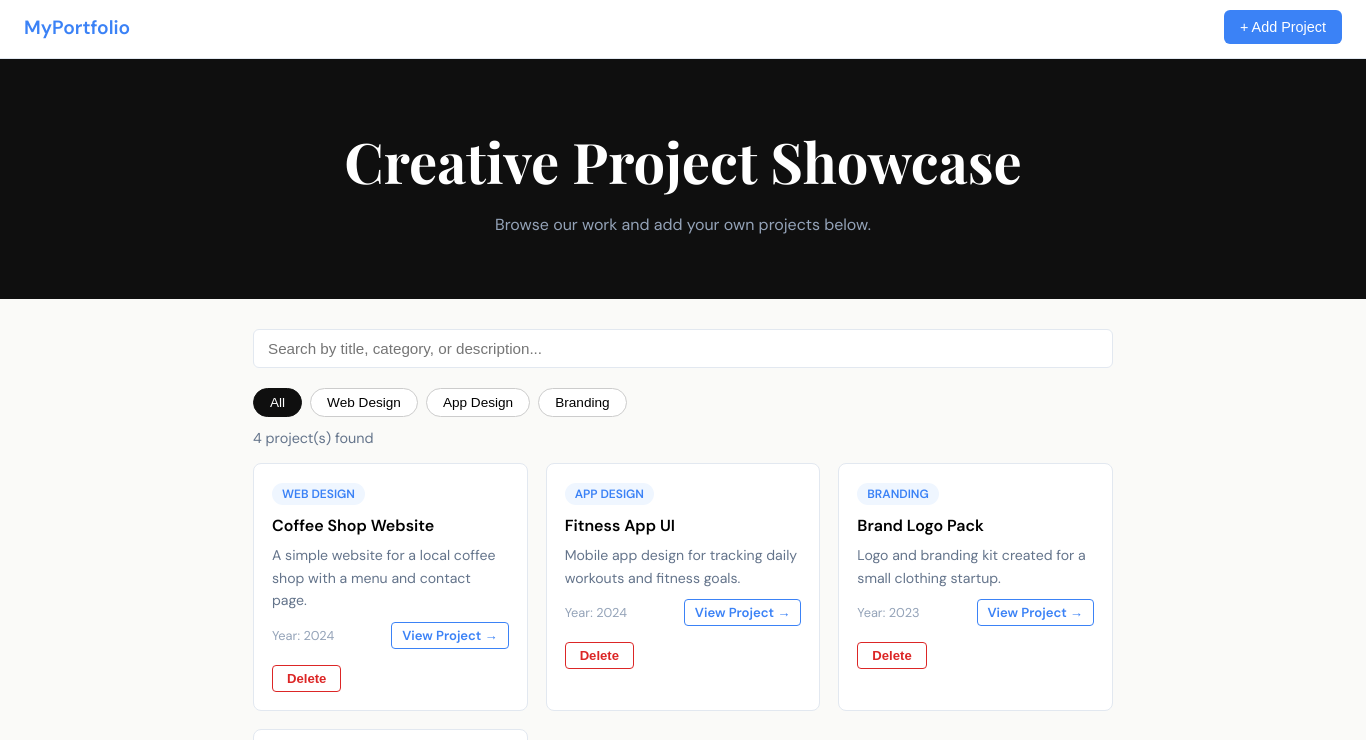
Scenario: form shows error when submitted empty
Click the button "+ Add Project" at [1283, 27], box [1224,10,1342,44]
(page scrolled)
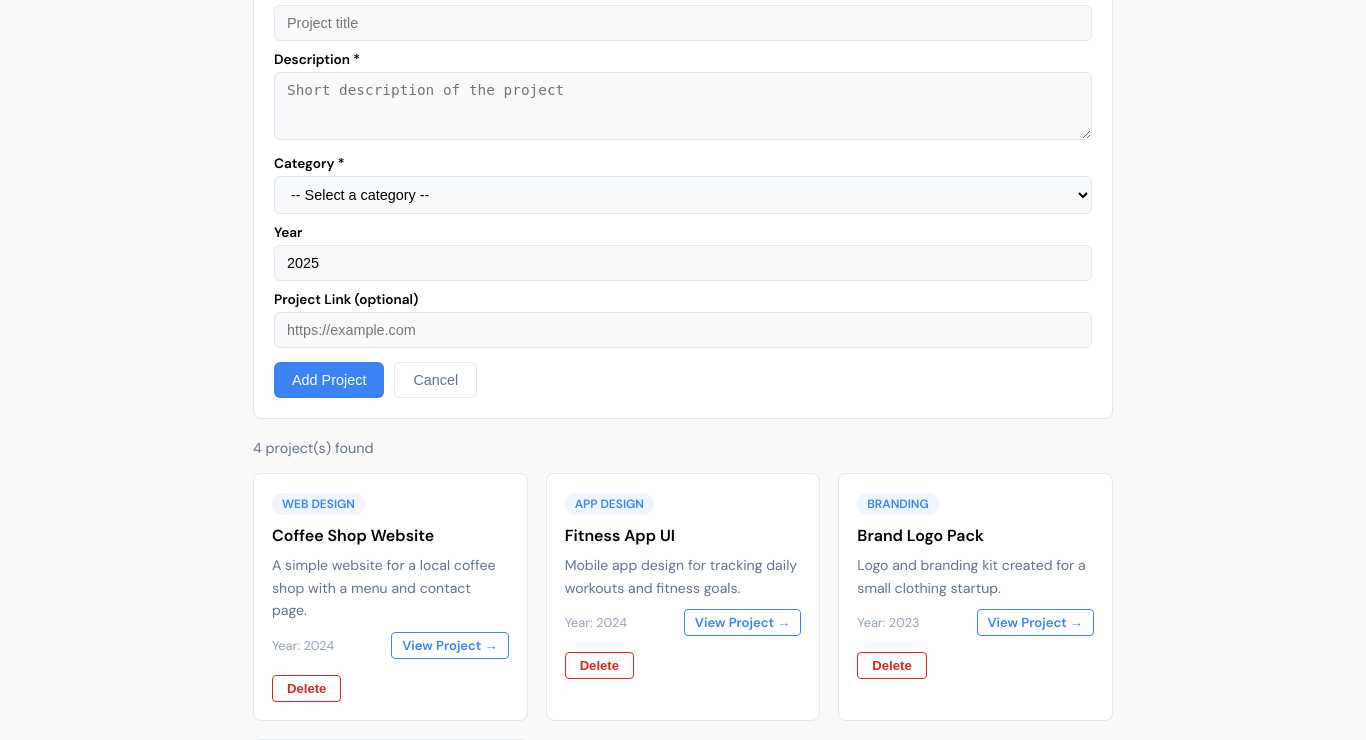
Click the button "Add Project" at [329, 380], box [274,362,384,398]
(page scrolled)
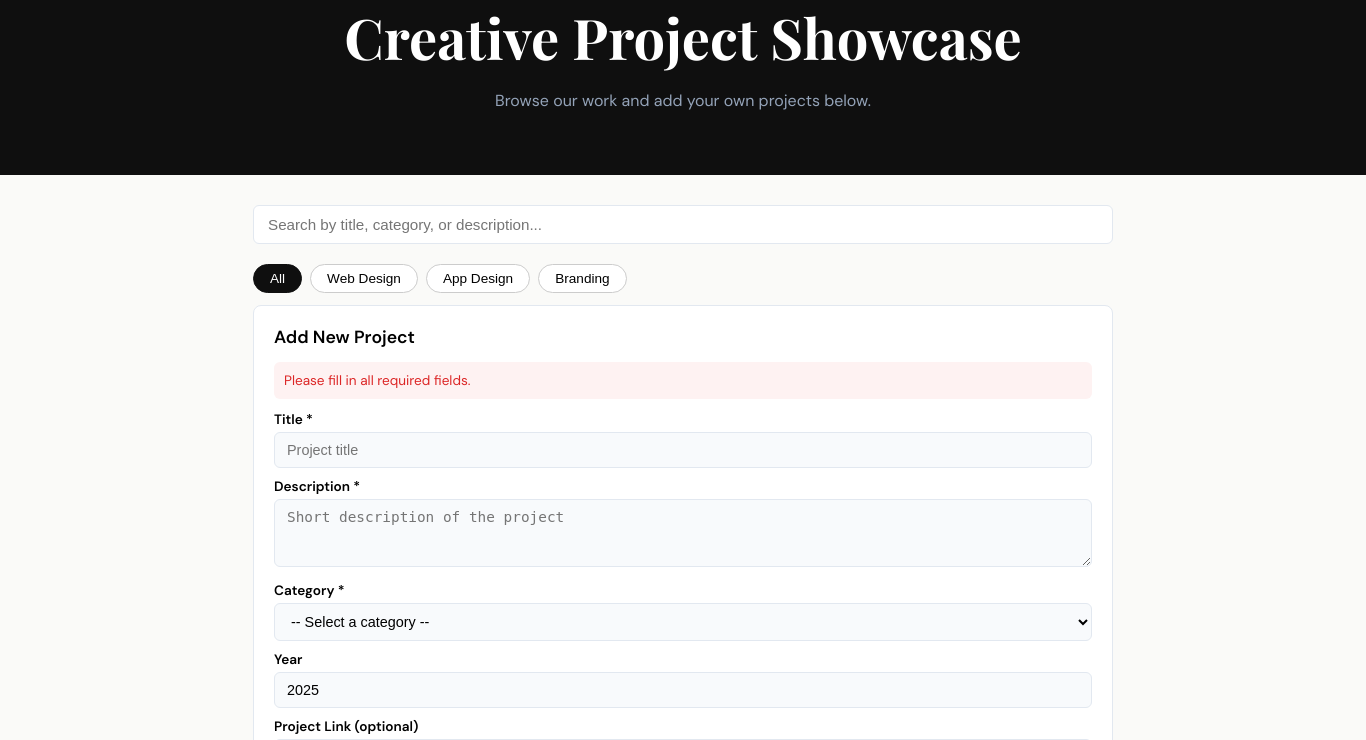
Expected: the text "Please fill in all required fields." is shown, [274,362,1092,399]
